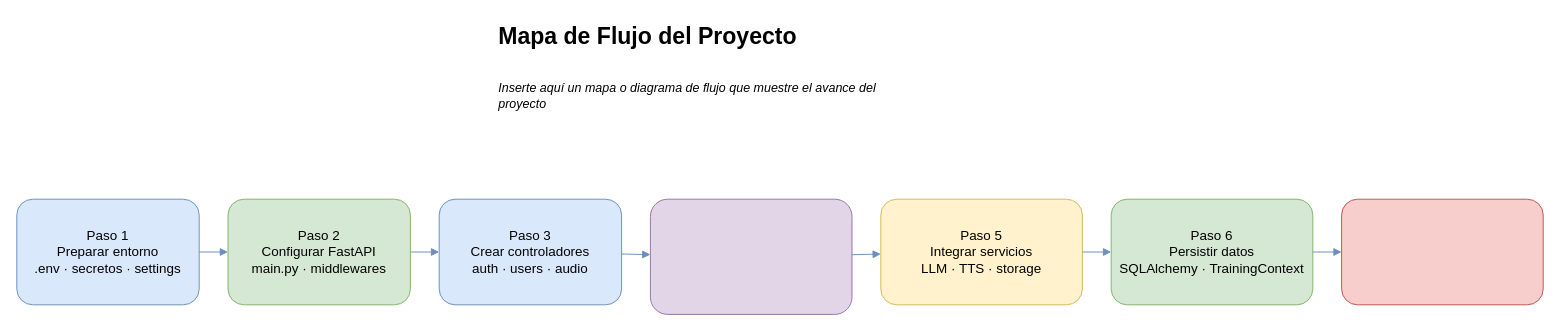
This 1560x331 diagram has some shape labels left out. The shapes that lost their labels are listed below. From the top down, each one's centre as x and y in pixels, then its label:
point 750,256: Paso 4 Definir flujo de audio ingesta → transcripción → contexto
point 1442,251: Paso 7 Exponer resultados readbacks · logs · métricas
